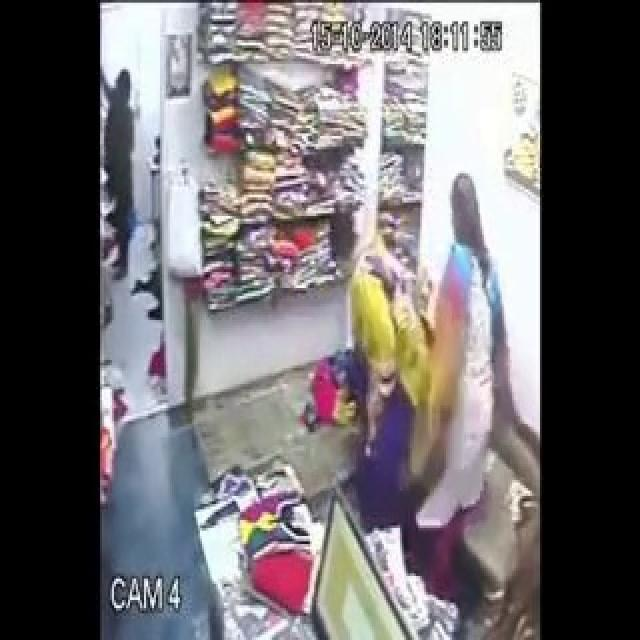Shoplifting: (399, 211, 501, 531)
